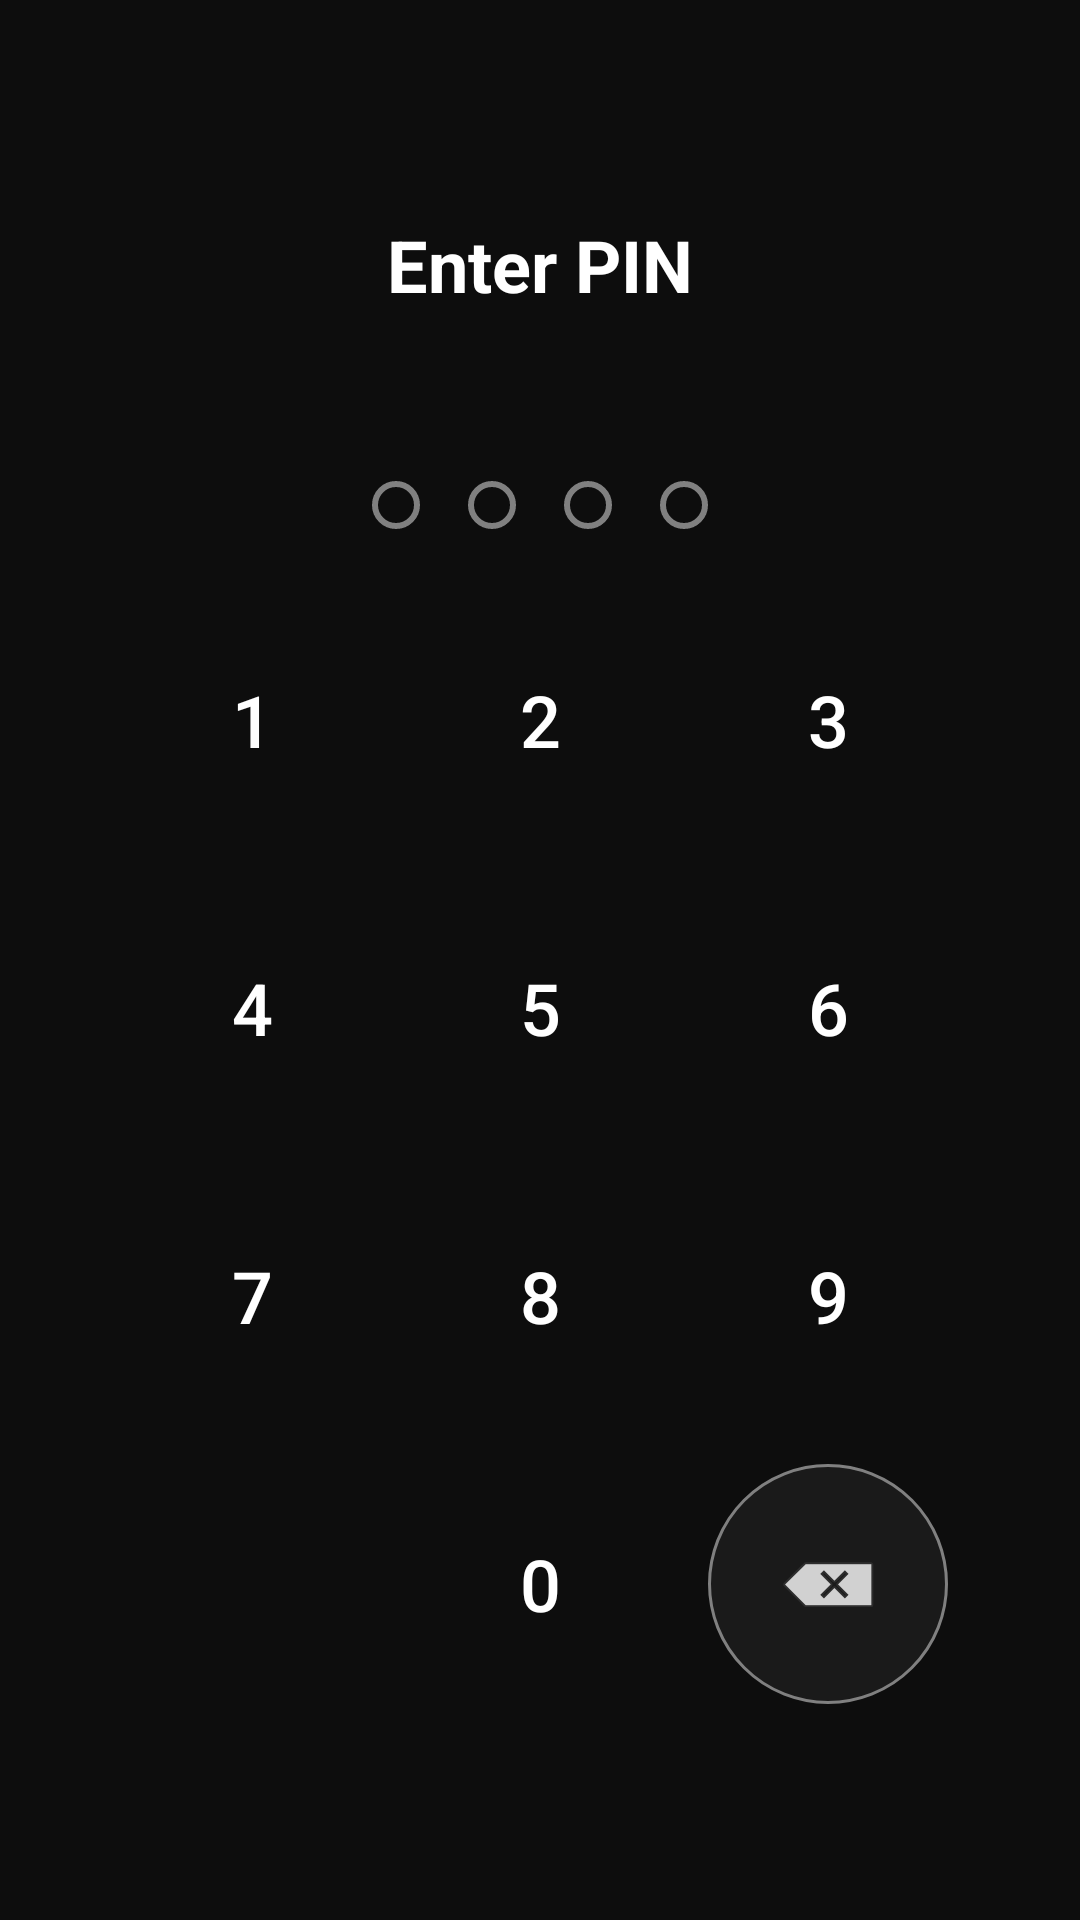

Where to tap for icons on this 1080*1920 app screen, as point (x, y):
Backspace: point (828, 1584)
pin dot: point (396, 505), point (492, 505), point (588, 505), point (684, 505)
